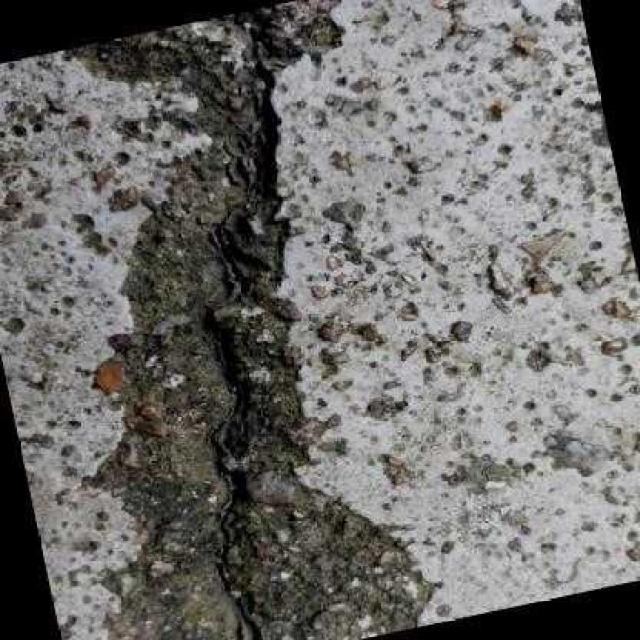D00: (199, 7, 291, 640)
